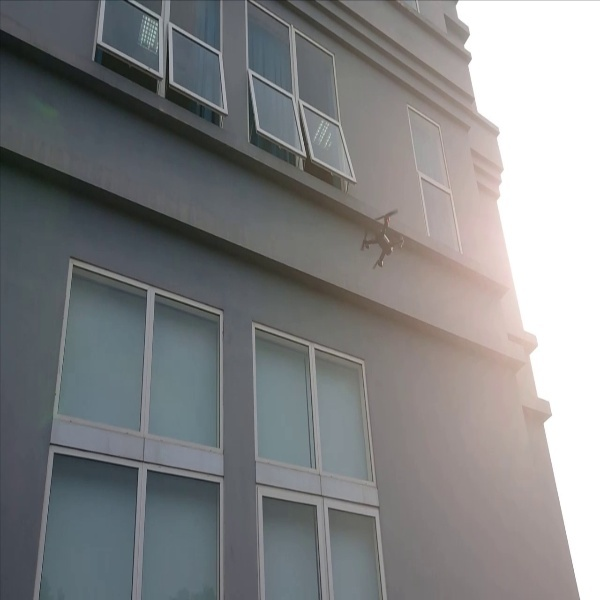drone: (353, 204, 413, 269)
